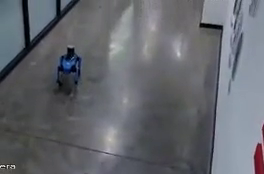robot dog: (51, 44, 84, 97)
